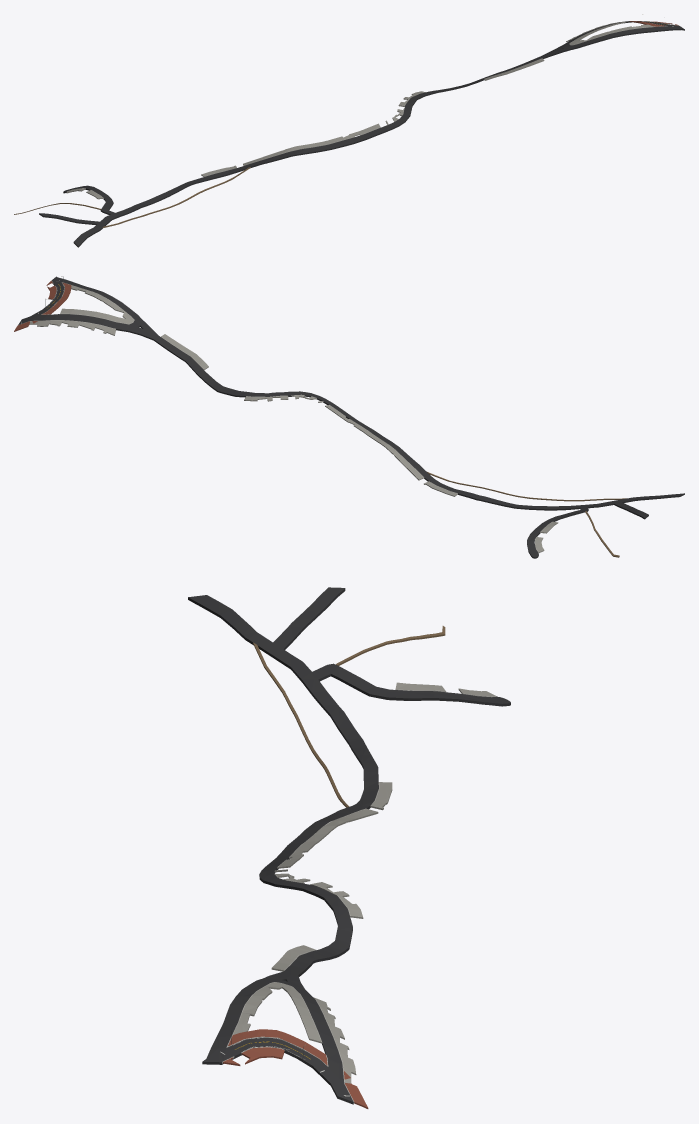
The picture shows the model from 3 angles, top to bottom: view 1: azimuth 30°, elevation 25°; view 2: azimuth 150°, elevation 25°; view 3: azimuth 270°, elevation 25°; orthographic projection. The views are drawn at different scales.
Size of the model in its own units: 587 by 87.85 by 134.
